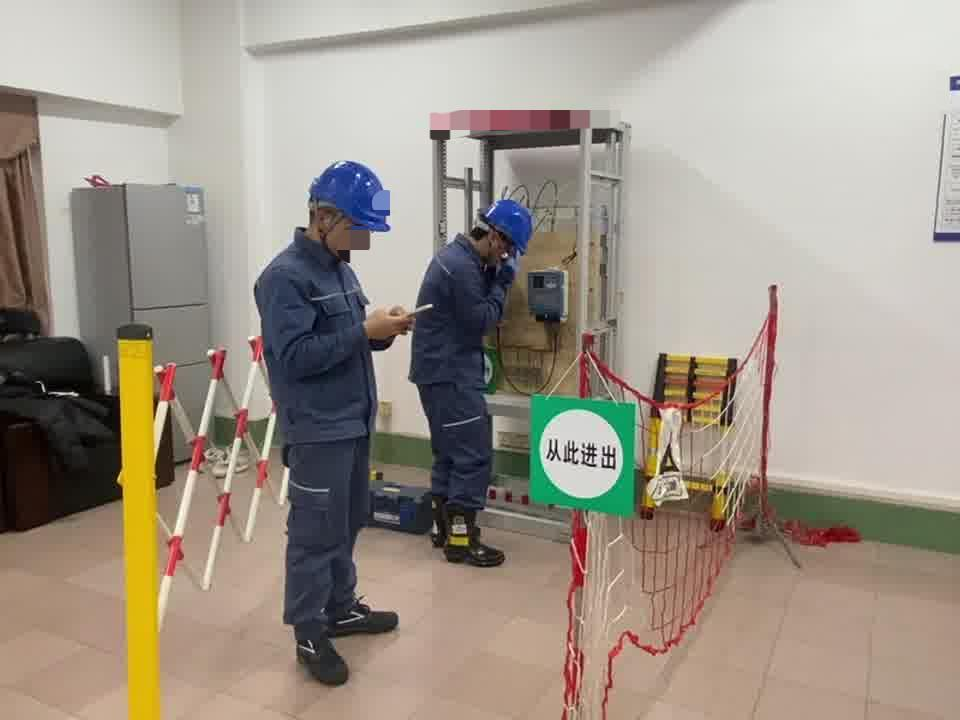halt: (306, 160, 394, 255), (482, 201, 537, 266)
inear: (314, 205, 345, 245)
